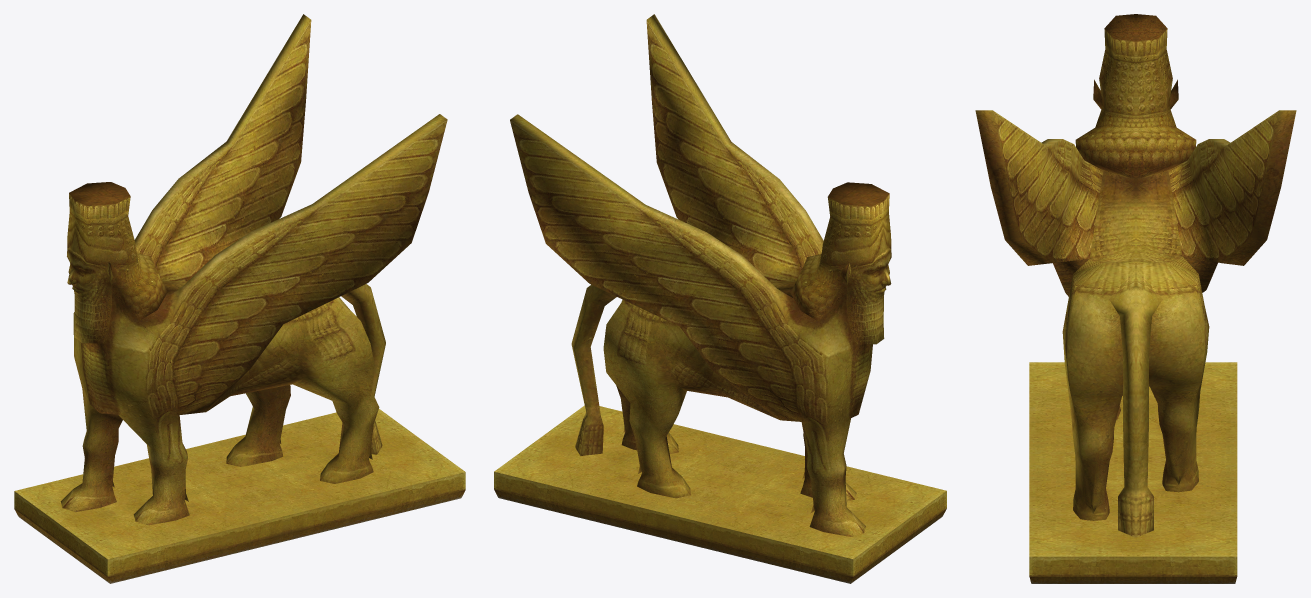
The model's file is garden_lion.glb.
The picture shows the model from 3 angles, left to right: view 1: azimuth 30°, elevation 25°; view 2: azimuth 150°, elevation 25°; view 3: azimuth 270°, elevation 25°; orthographic projection. The views are drawn at different scales.
Visible parts, largest first — view 1: Air_garden16_cen_lion01, Air_garden16_cen_lion02; view 2: Air_garden16_cen_lion01, Air_garden16_cen_lion02; view 3: Air_garden16_cen_lion01, Air_garden16_cen_lion02.
Part boxes in pixels (<box>): Air_garden16_cen_lion01: <box>60,14,447,525</box>; Air_garden16_cen_lion02: <box>14,409,465,583</box>; Air_garden16_cen_lion01: <box>510,14,891,536</box>; Air_garden16_cen_lion02: <box>494,405,946,583</box>; Air_garden16_cen_lion01: <box>975,14,1296,537</box>; Air_garden16_cen_lion02: <box>1029,362,1237,583</box>.
Bounding box in the file's own units: 3.76 × 4.08 × 2.62.
2 materials, 2 textured.
